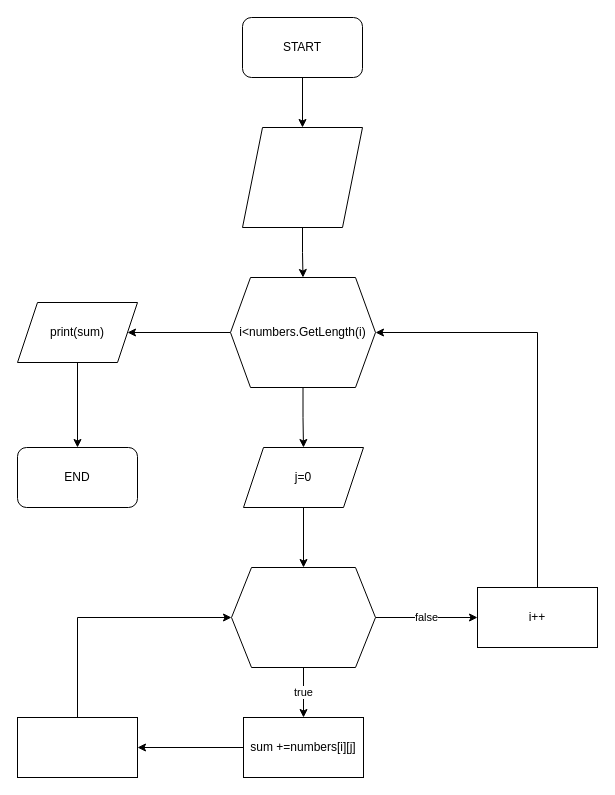
This 615x795 diagram has some shape labels left out. Each missing label, with the box of its shape:
j++: (16, 716, 138, 778)
j<numbers.GetLength(i): (230, 566, 376, 668)
numbers= {1,2,3} {4,5,6} i=0 sum=0: (242, 126, 362, 228)
